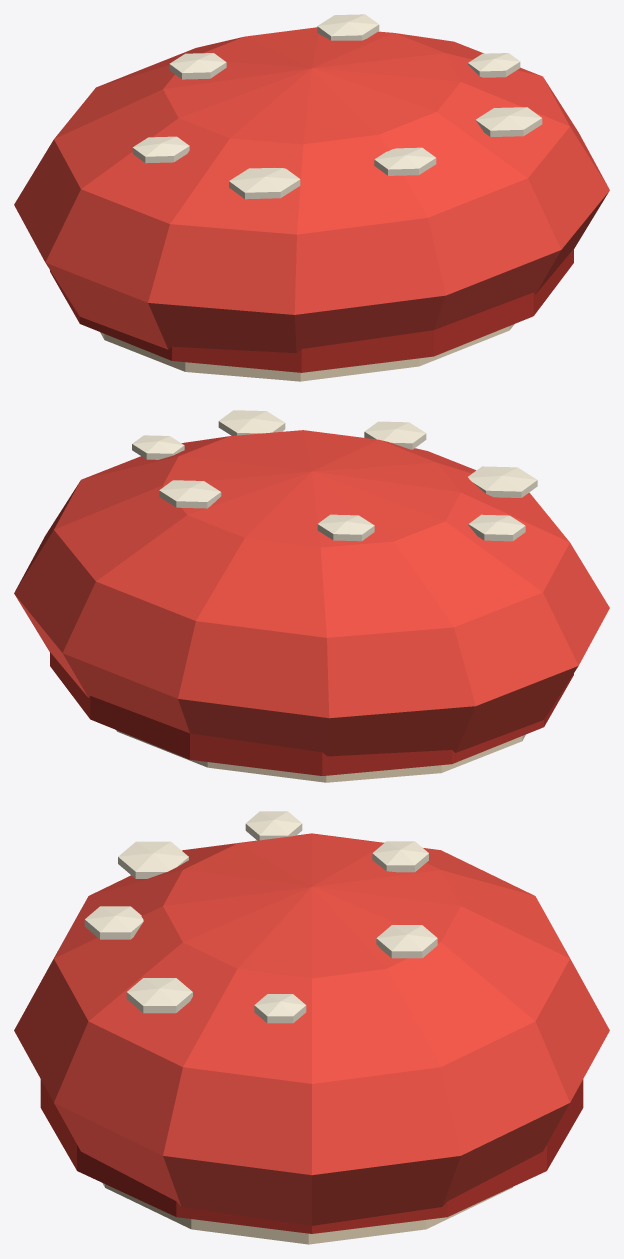
3 renders of one model, top to bottom at view 1: azimuth 30°, elevation 25°; view 2: azimuth 150°, elevation 25°; view 3: azimuth 270°, elevation 25°, orthographic. The views are drawn at different scales.
Visible parts, largest first — view 1: mushroom_cap, red_brim, cream_underside, spot_1, spot_3, spot_2, spot_7, spot_4, spot_6, spot_5; view 2: mushroom_cap, red_brim, cream_underside, spot_1, spot_7, spot_3, spot_6, spot_4, spot_2, spot_5; view 3: mushroom_cap, red_brim, cream_underside, spot_1, spot_3, spot_7, spot_2, spot_6, spot_4, spot_5.
Boxes of the visible parts, x1,y1,x2,y2 form: mushroom_cap: [14, 27, 609, 353]; red_brim: [50, 249, 573, 372]; cream_underside: [100, 324, 514, 381]; spot_1: [229, 168, 300, 199]; spot_3: [475, 107, 542, 136]; spot_2: [374, 147, 436, 175]; spot_7: [317, 14, 379, 40]; spot_4: [132, 136, 189, 163]; spot_6: [169, 53, 226, 79]; spot_5: [468, 53, 520, 77]; mushroom_cap: [14, 430, 609, 756]; red_brim: [50, 652, 573, 775]; cream_underside: [116, 730, 525, 782]; spot_1: [468, 466, 537, 497]; spot_7: [159, 480, 221, 508]; spot_3: [218, 410, 285, 435]; spot_6: [317, 514, 374, 541]; spot_4: [468, 514, 525, 541]; spot_2: [364, 421, 426, 449]; spot_5: [132, 435, 184, 459]; mushroom_cap: [14, 833, 609, 1225]; red_brim: [40, 1079, 583, 1233]; cream_underside: [102, 1183, 512, 1244]; spot_1: [118, 841, 188, 878]; spot_3: [126, 978, 192, 1013]; spot_7: [376, 925, 437, 958]; spot_2: [84, 906, 143, 939]; spot_6: [372, 841, 428, 872]; spot_4: [245, 811, 302, 840]; spot_5: [254, 994, 306, 1023].
Size of the model in its own units: 2.16 by 1.03 by 1.88.
